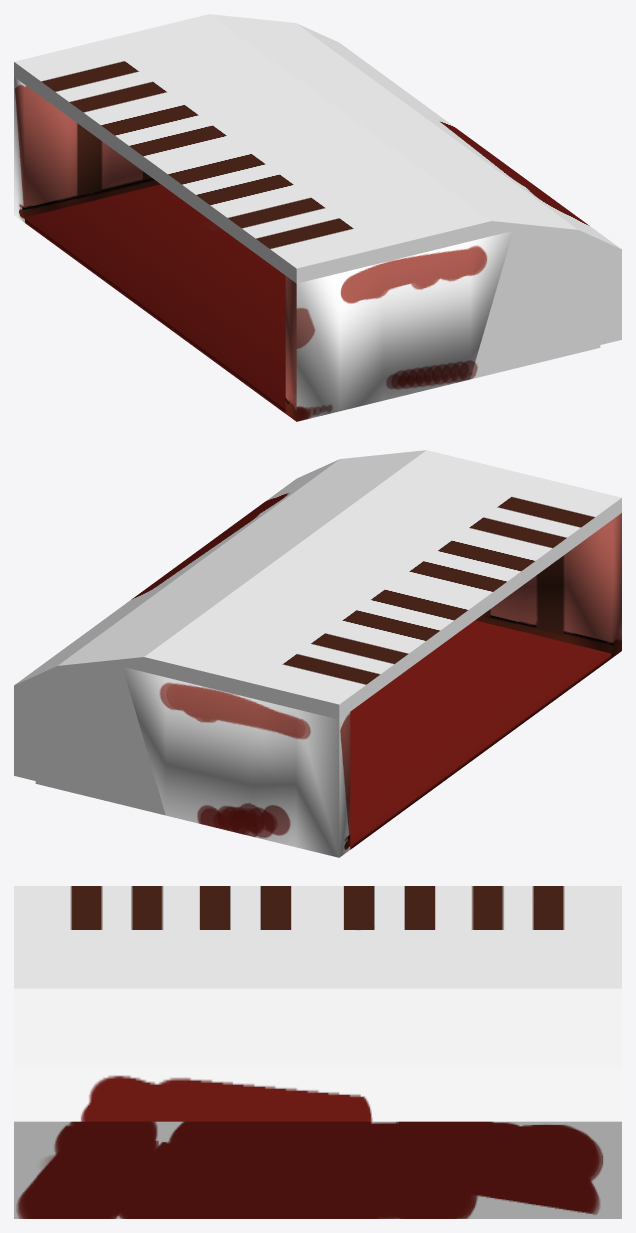
File: kitchentraincar.fbx
The picture shows the model from 3 angles, top to bottom: view 1: azimuth 30°, elevation 25°; view 2: azimuth 150°, elevation 25°; view 3: azimuth 270°, elevation 25°; orthographic projection. The views are drawn at different scales.
Parts seen in each view (by area): view 1: polySurface2; view 2: polySurface2; view 3: polySurface2.
Boxes of the visible parts, x1,y1,x2,y2 form: polySurface2: [14, 14, 621, 421]; polySurface2: [14, 450, 621, 857]; polySurface2: [14, 886, 621, 1218].
Size of the model in its own units: 2261 by 1018 by 3402.
Materials: 1 (1 with a texture image).
